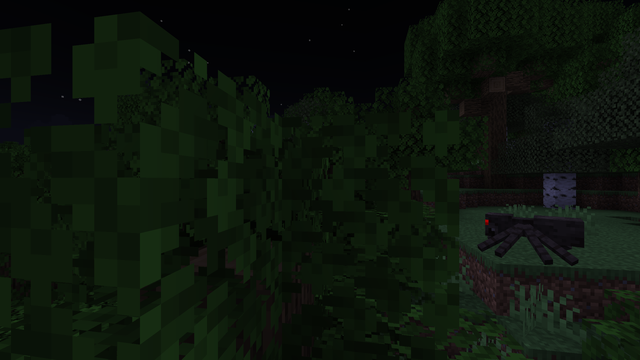araignees: (475, 208, 584, 263)
